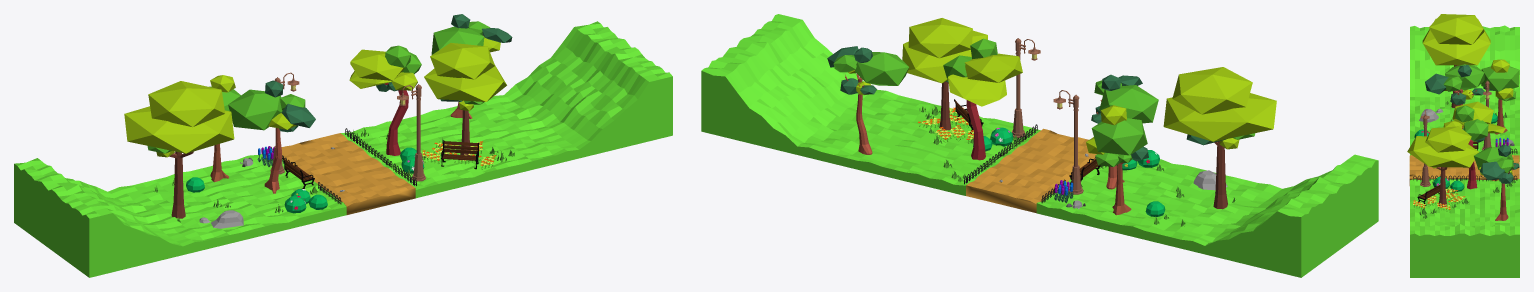
File: road1_1.fbx
3 views of the same model, side by side, from view 1: azimuth 30°, elevation 25°; view 2: azimuth 150°, elevation 25°; view 3: azimuth 270°, elevation 25° (orthographic). The views are drawn at different scales.
Visible parts, largest first — view 1: Plane.001; view 2: Plane.001; view 3: Plane.001.
Boxes of the visible parts, x1=… form: Plane.001: x1=14, y1=14, x2=672, y2=277; Plane.001: x1=701, y1=14, x2=1378, y2=277; Plane.001: x1=1407, y1=14, x2=1519, y2=277.
Bounding box in the file's own units: 16990 × 3745 × 3896.
